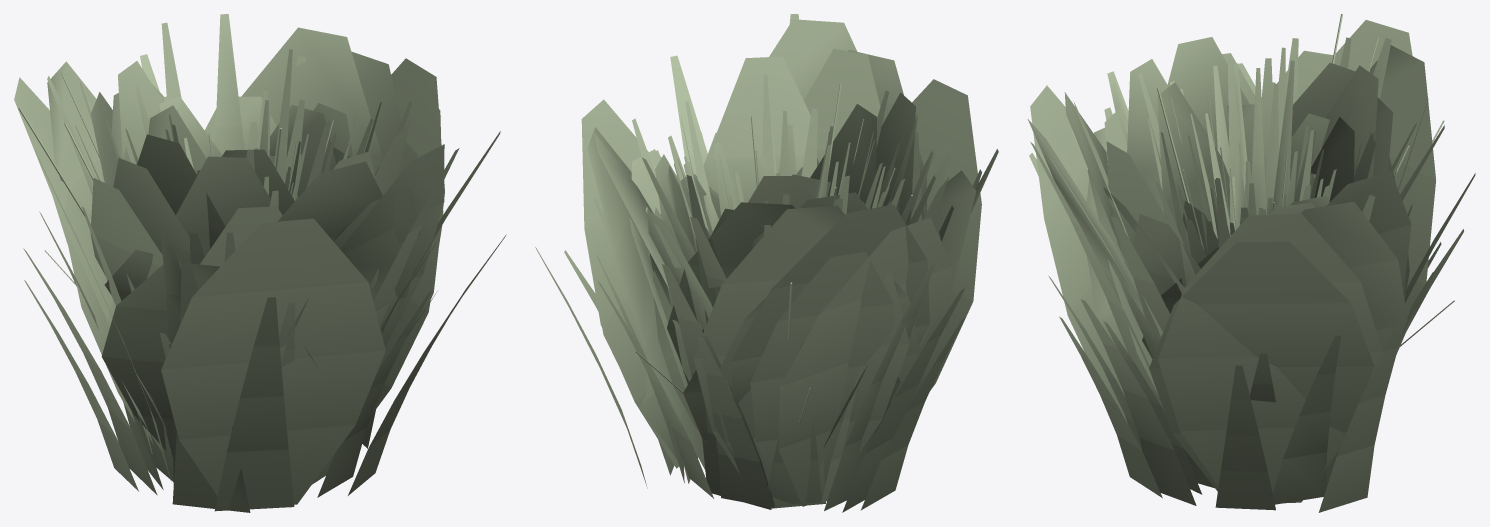
Rendered from herb_grassy.glb.
3 views of the same model, side by side, from view 1: azimuth 30°, elevation 25°; view 2: azimuth 150°, elevation 25°; view 3: azimuth 270°, elevation 25° (orthographic). The views are drawn at different scales.
Visible parts, largest first — view 1: v1_foliage, v0_foliage, v5_foliage, v2_foliage, v6_foliage, v7_foliage, v4_foliage; view 2: v1_foliage, v0_foliage, v5_foliage, v2_foliage, v6_foliage, v7_foliage, v4_foliage, v3_foliage; view 3: v1_foliage, v2_foliage, v0_foliage, v5_foliage, v4_foliage, v7_foliage, v6_foliage.
Part boxes in pixels (<box>): v1_foliage: <box>14,27,444,504</box>; v0_foliage: <box>53,61,417,445</box>; v5_foliage: <box>23,14,500,512</box>; v2_foliage: <box>18,107,506,497</box>; v6_foliage: <box>75,22,411,481</box>; v7_foliage: <box>107,49,356,200</box>; v4_foliage: <box>163,90,381,199</box>; v1_foliage: <box>581,19,981,506</box>; v0_foliage: <box>629,48,948,473</box>; v5_foliage: <box>594,14,998,512</box>; v2_foliage: <box>535,83,965,510</box>; v6_foliage: <box>632,90,933,508</box>; v7_foliage: <box>669,74,898,242</box>; v4_foliage: <box>683,101,906,222</box>; v3_foliage: <box>751,116,895,502</box>; v1_foliage: <box>1027,20,1454,503</box>; v2_foliage: <box>1048,14,1463,512</box>; v0_foliage: <box>1073,37,1378,295</box>; v5_foliage: <box>1029,38,1475,488</box>; v4_foliage: <box>1148,59,1374,253</box>; v7_foliage: <box>1160,47,1379,253</box>; v6_foliage: <box>1077,37,1428,254</box>.
Bounding box in the file's own units: 1.09 × 1 × 1.09.
